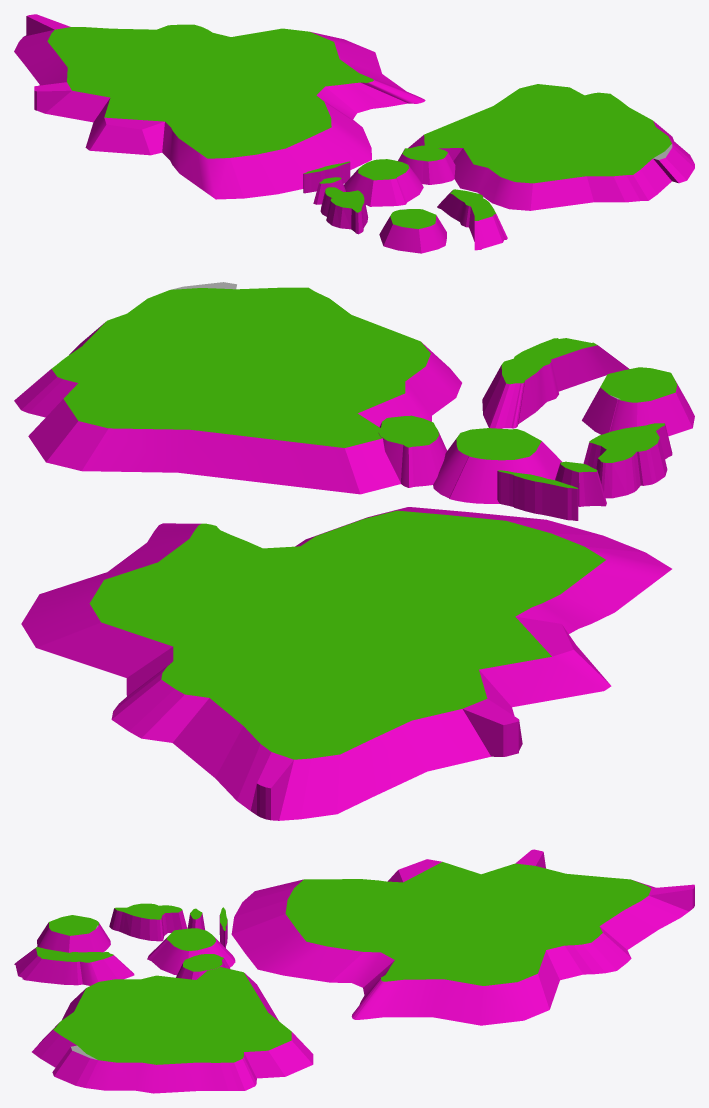
Rendered from Fixed_Islands.fbx.
The picture shows the model from 3 angles, top to bottom: view 1: azimuth 30°, elevation 25°; view 2: azimuth 150°, elevation 25°; view 3: azimuth 270°, elevation 25°; orthographic projection. The views are drawn at different scales.
Visible parts, largest first — view 1: polySurface1, polySurface2, polySurface7, polySurface6, polySurface3, polySurface4, polySurface8, polySurface9, polySurface5; view 2: polySurface1, polySurface2, polySurface3, polySurface7, polySurface6, polySurface4, polySurface8, polySurface9, polySurface5; view 3: polySurface1, polySurface2, polySurface3, polySurface4, polySurface6, polySurface7, polySurface8.
Part boxes in pixels (x1,y1,x2,y2): polySurface1: [14, 14, 425, 199]; polySurface2: [408, 84, 694, 210]; polySurface7: [344, 159, 423, 206]; polySurface6: [379, 209, 446, 253]; polySurface3: [437, 189, 507, 250]; polySurface4: [320, 187, 368, 234]; polySurface8: [398, 145, 455, 184]; polySurface9: [303, 161, 350, 193]; polySurface5: [313, 177, 345, 204]; polySurface1: [21, 507, 671, 820]; polySurface2: [14, 282, 461, 494]; polySurface3: [482, 338, 629, 428]; polySurface7: [433, 428, 562, 503]; polySurface6: [582, 367, 694, 436]; polySurface4: [583, 423, 672, 498]; polySurface8: [378, 415, 446, 487]; polySurface9: [497, 470, 578, 520]; polySurface5: [555, 461, 606, 506]; polySurface1: [231, 849, 694, 1025]; polySurface2: [32, 967, 313, 1093]; polySurface3: [14, 947, 134, 985]; polySurface4: [109, 903, 187, 941]; polySurface6: [37, 915, 110, 952]; polySurface7: [147, 928, 235, 975]; polySurface8: [176, 954, 230, 979].
Size of the model in its own units: 101951 by 4224 by 130591.
Materials: 3 (1 with a texture image).
